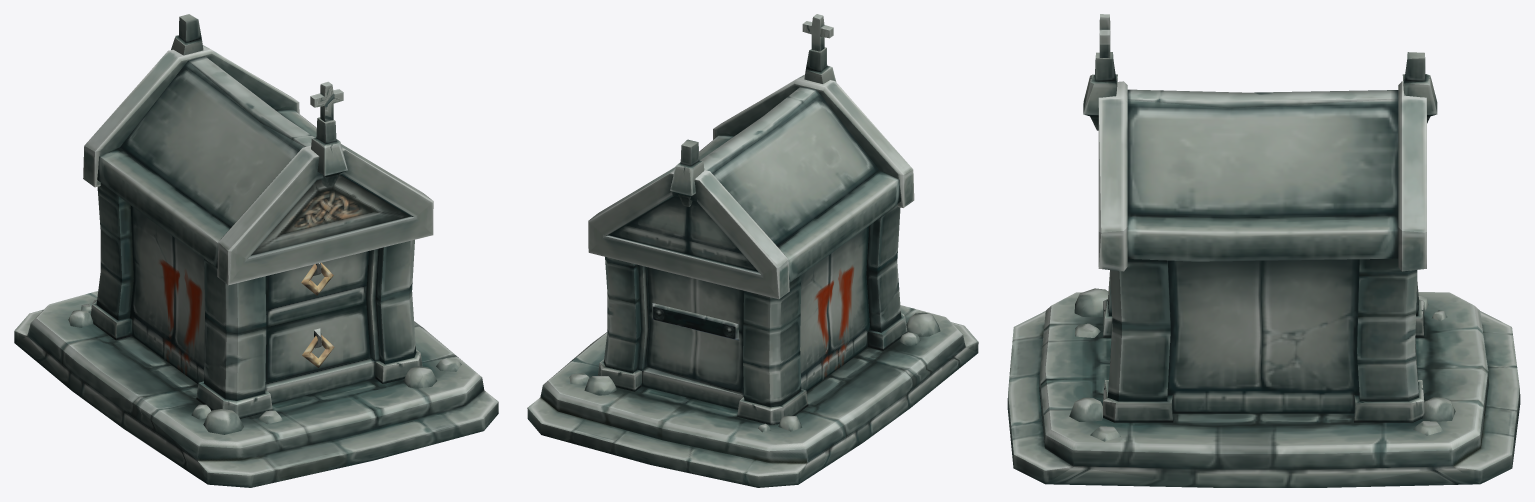
File: crypt.glb
The picture shows the model from 3 angles, left to right: view 1: azimuth 30°, elevation 25°; view 2: azimuth 150°, elevation 25°; view 3: azimuth 270°, elevation 25°; orthographic projection. The views are drawn at different scales.
Parts seen in each view (by area): view 1: tomb_Shape1_tomb_mat_0; view 2: tomb_Shape1_tomb_mat_0; view 3: tomb_Shape1_tomb_mat_0.
Part boxes in pixels (x1=…): tomb_Shape1_tomb_mat_0: x1=14, y1=14, x2=498, y2=487; tomb_Shape1_tomb_mat_0: x1=527, y1=14, x2=978, y2=487; tomb_Shape1_tomb_mat_0: x1=1007, y1=14, x2=1520, y2=487.
Size of the model in its own units: 15.74 by 17.13 by 20.49.
1 material, 1 textured.
